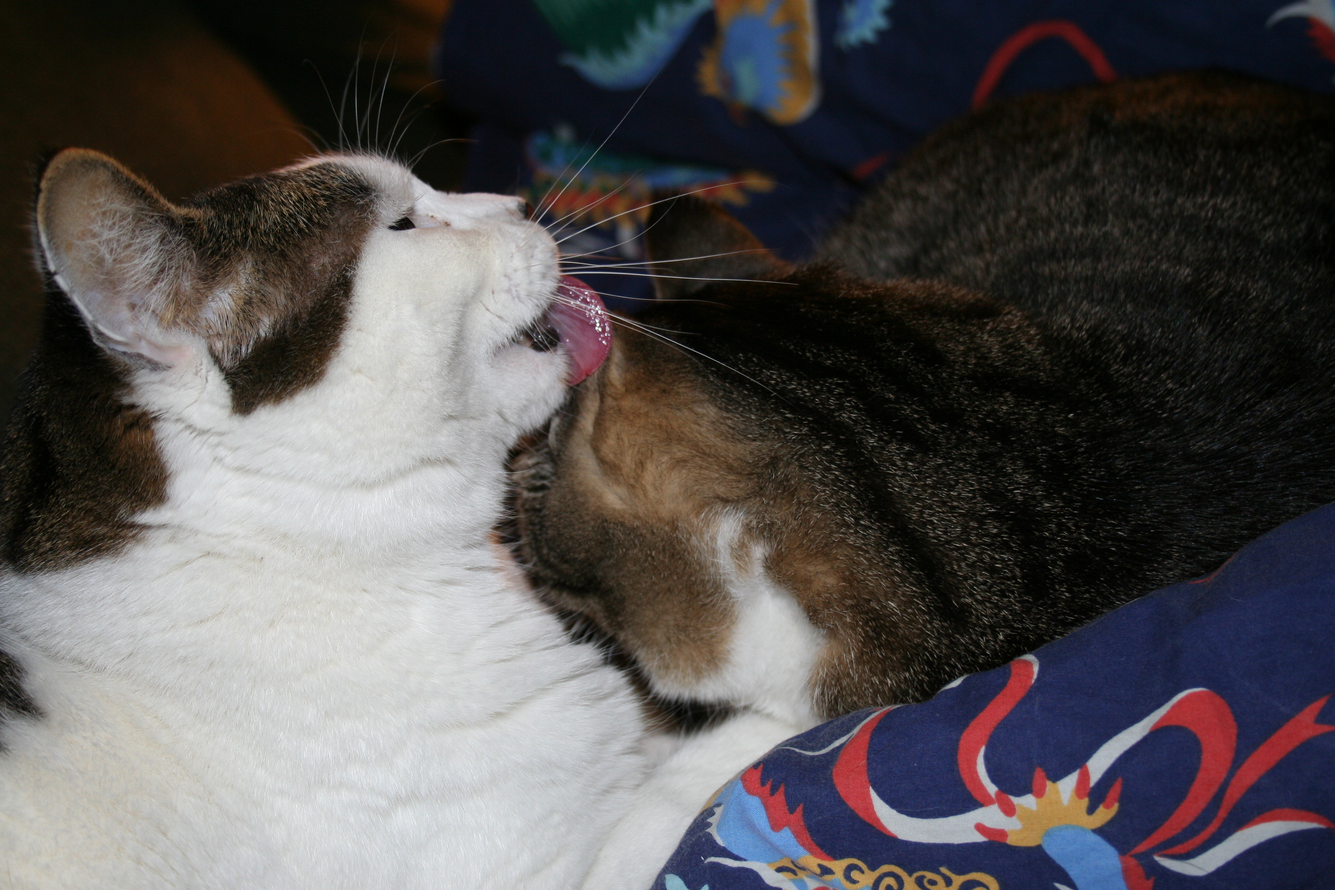cat: (0, 60, 793, 889), (506, 41, 1334, 709)
